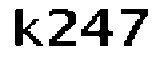2: (47, 6, 79, 50)
4: (81, 6, 114, 50)
7: (117, 6, 150, 51)
k: (9, 5, 43, 52)
